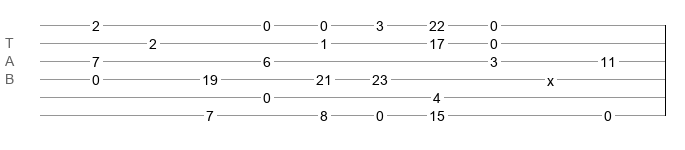0: (92, 72, 100, 82), (263, 18, 271, 28), (263, 90, 271, 100), (320, 18, 328, 28), (376, 108, 384, 118), (490, 18, 498, 28), (490, 36, 498, 46), (604, 108, 612, 118)
1: (320, 36, 328, 46)
11: (600, 54, 616, 64)
15: (429, 108, 445, 118)
17: (429, 36, 445, 46)
19: (202, 72, 218, 82)
2: (92, 18, 100, 28), (149, 36, 157, 46)
21: (316, 72, 332, 82)
22: (429, 18, 445, 28)
23: (372, 72, 388, 82)
3: (376, 18, 384, 28), (490, 54, 498, 64)
4: (433, 90, 441, 100)
6: (263, 54, 271, 64)
7: (92, 54, 100, 64), (206, 108, 214, 118)
8: (320, 108, 328, 118)
x: (547, 73, 554, 81)
